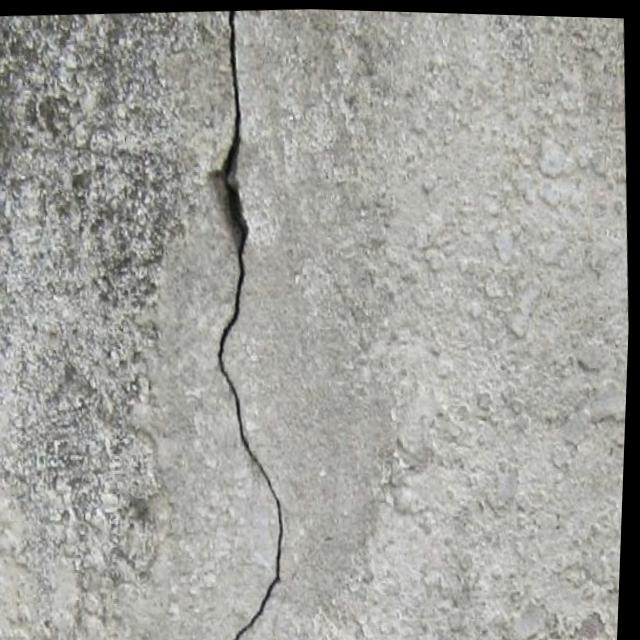Crack: (176, 6, 320, 640)
